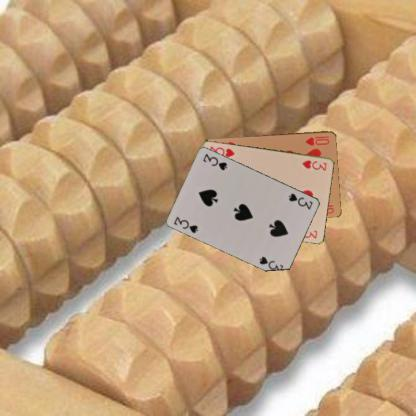10h: (303, 133, 330, 147)
3h: (300, 157, 328, 172)
3s: (172, 214, 199, 234), (286, 191, 314, 210)
